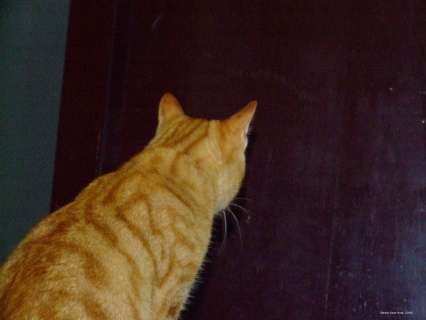Cat: (0, 92, 255, 319)
